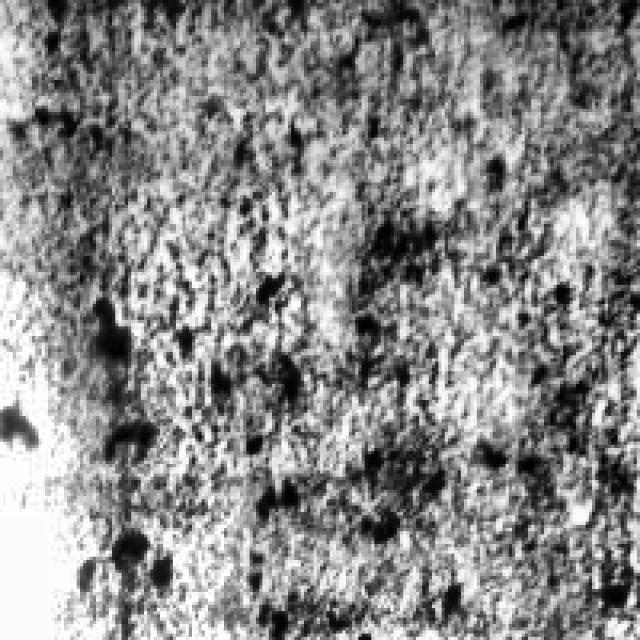Rolled_in_Scale: (198, 61, 634, 634), (0, 9, 371, 602)
